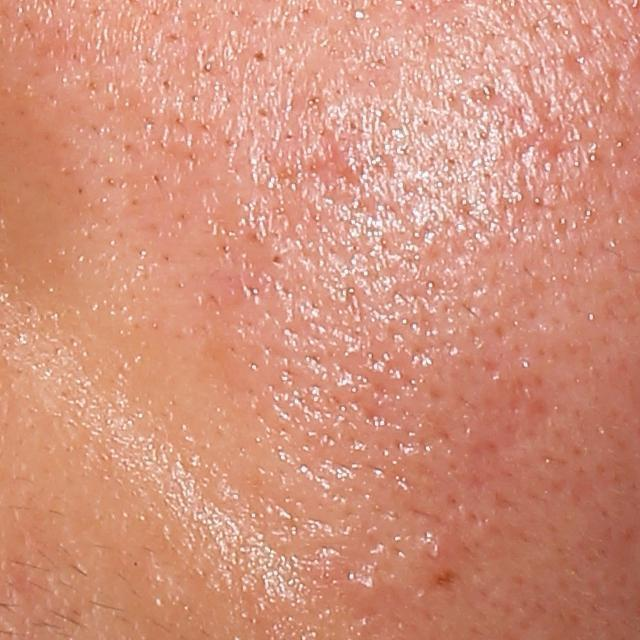comedo: (249, 50, 267, 62)
